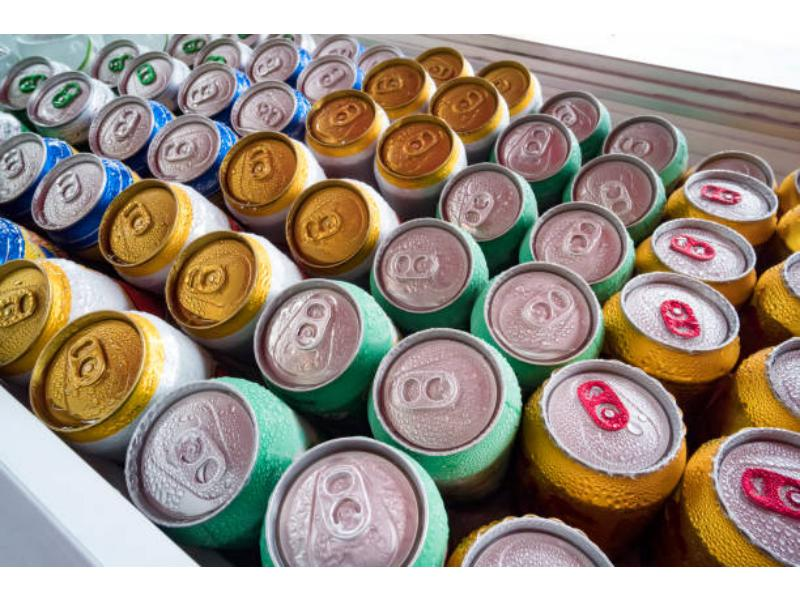can: (258, 429, 450, 564), (123, 381, 265, 531), (529, 357, 690, 479), (27, 309, 155, 448), (369, 326, 506, 454), (708, 408, 799, 562), (484, 258, 611, 368), (248, 275, 366, 391), (615, 275, 741, 378), (281, 170, 391, 270), (161, 229, 259, 332), (370, 219, 485, 305), (528, 200, 631, 281), (96, 174, 180, 271), (220, 132, 315, 208), (645, 217, 760, 279), (0, 248, 52, 385), (435, 161, 527, 235), (29, 151, 108, 231), (674, 168, 784, 225), (575, 149, 669, 215), (376, 114, 460, 185), (490, 109, 574, 179), (147, 110, 228, 176), (303, 89, 380, 155), (88, 92, 160, 157), (229, 78, 305, 134), (431, 74, 502, 133), (171, 61, 245, 116), (27, 73, 96, 131), (0, 130, 46, 217), (360, 57, 427, 109), (118, 52, 180, 98), (244, 41, 307, 80), (296, 59, 361, 96), (96, 35, 128, 86)
